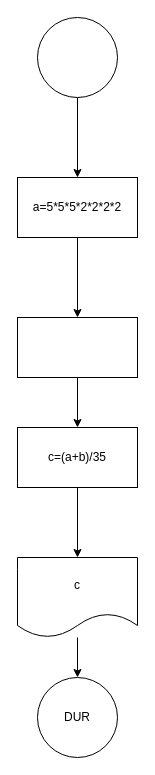
Some shapes in this 155 by 775 pixel diagram are drawn without their labels. Here are the shapes that lost their labels. From the top down, the centre of each, then its label:
At (x=77, y=57): "BAŞLA".
At (x=77, y=347): "b=5*5*5*5*2*2*2".
